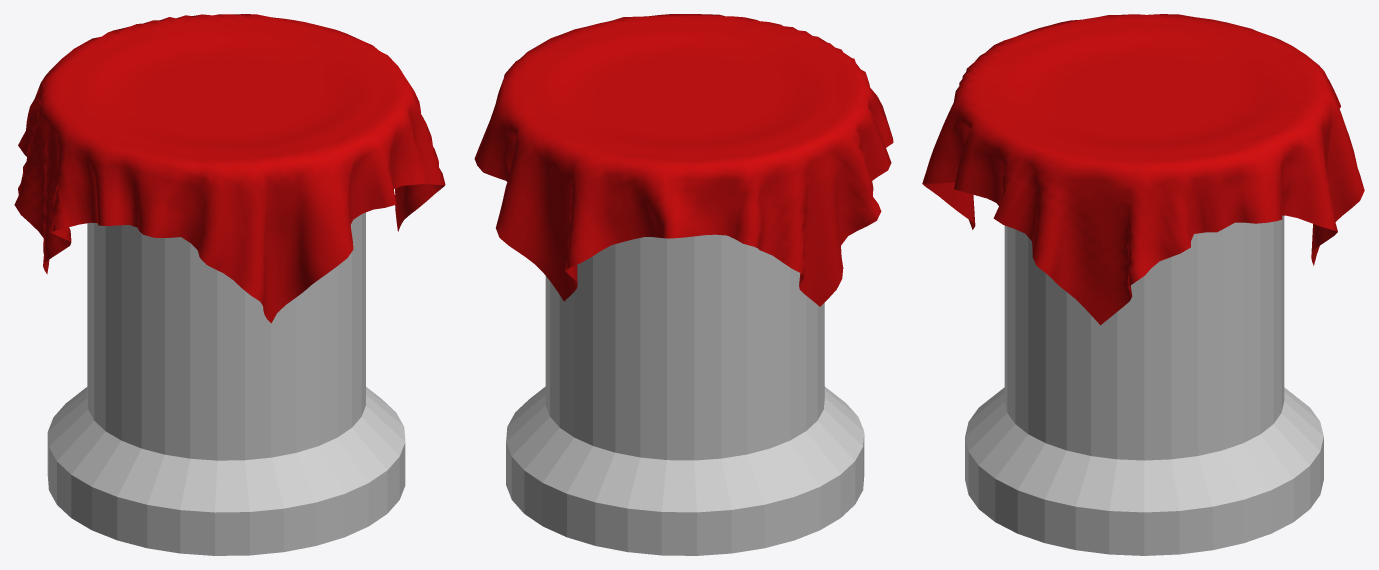
File: Table_Stone.obj
The picture shows the model from 3 angles, left to right: view 1: azimuth 30°, elevation 25°; view 2: azimuth 150°, elevation 25°; view 3: azimuth 270°, elevation 25°; orthographic projection.
Parts seen in each view (by area): view 1: Cylinder, Plane; view 2: Cylinder, Plane; view 3: Cylinder, Plane.
Boxes of the visible parts, <box> form: Cylinder: <box>47,212,405,555</box>; Plane: <box>14,14,445,323</box>; Cylinder: <box>506,234,864,555</box>; Plane: <box>474,14,893,306</box>; Cylinder: <box>965,215,1323,555</box>; Plane: <box>922,14,1364,325</box>.
Bounding box in the file's own units: 2.62 × 2.64 × 2.69.
